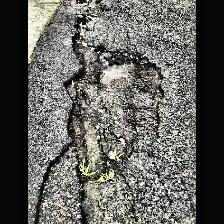pothole: (61, 17, 165, 183)
